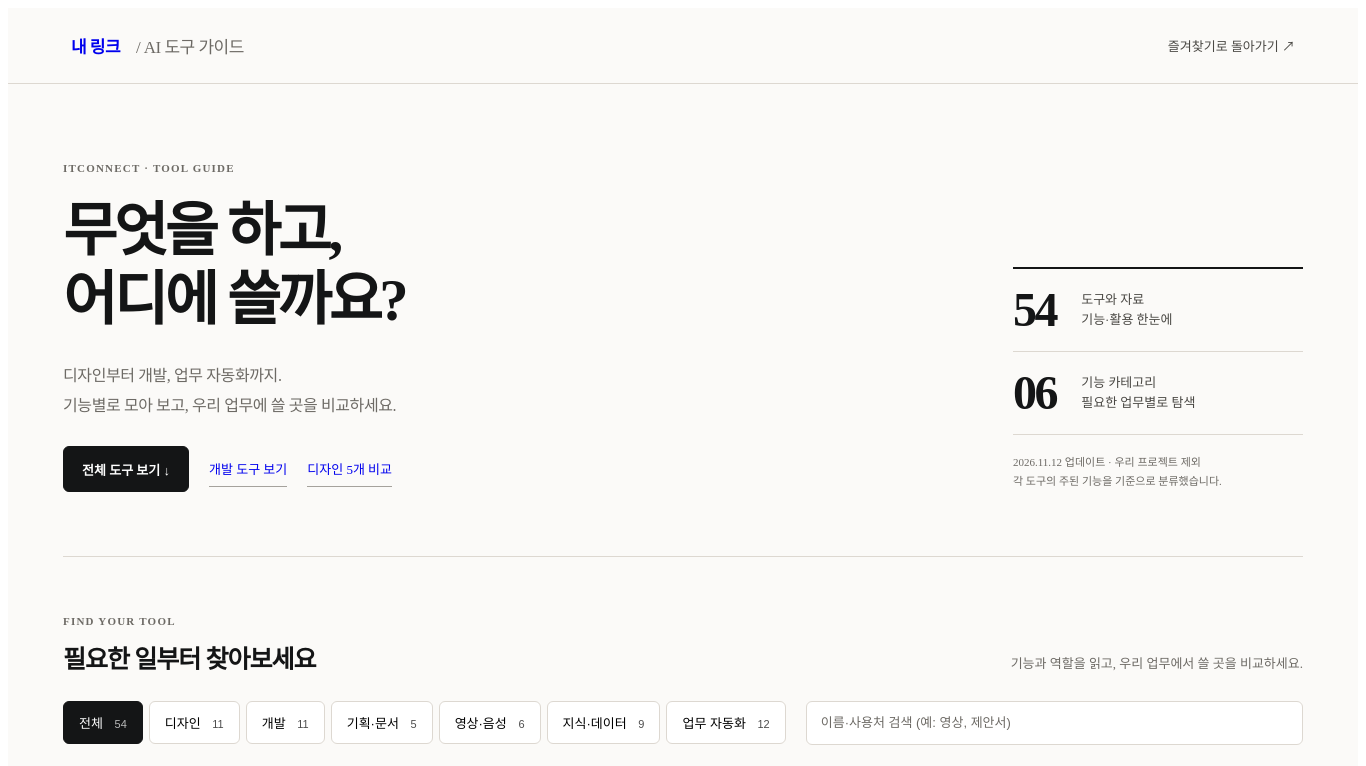
Scenario: AI 도구 가이드 › 기능·활용과 중요한 주의사항은 펼치지 않아도 보이고 CTA는 검색을 초기화한다
The width and height of the screenshot is (1366, 766).
Later steps or results of the test are not shown.
Type "없는도구" into the search field. click: [1054, 723]
box: x1=806 y1=701 x2=1303 y2=745
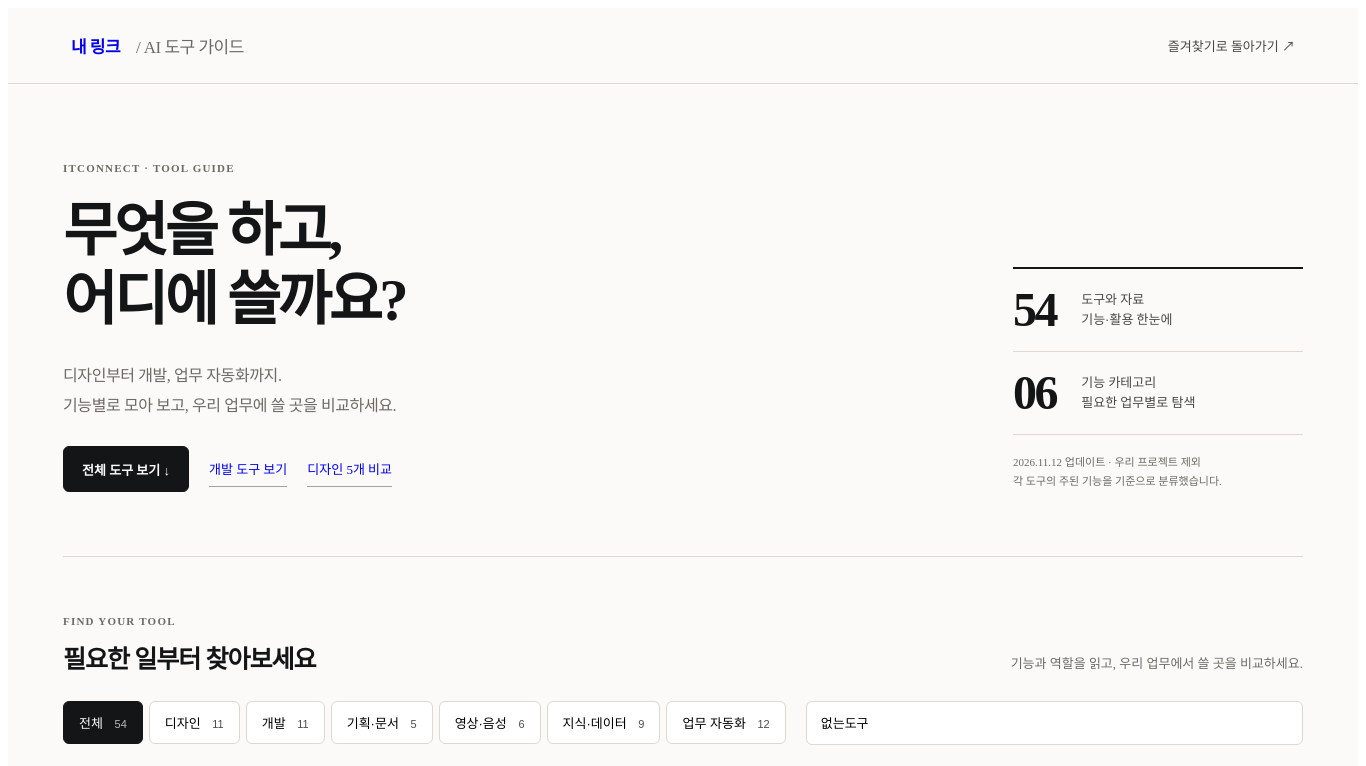
Click the link "개발 도구 보기". click: [248, 469]
box: x1=209 y1=451 x2=287 y2=487
(page scrolled)
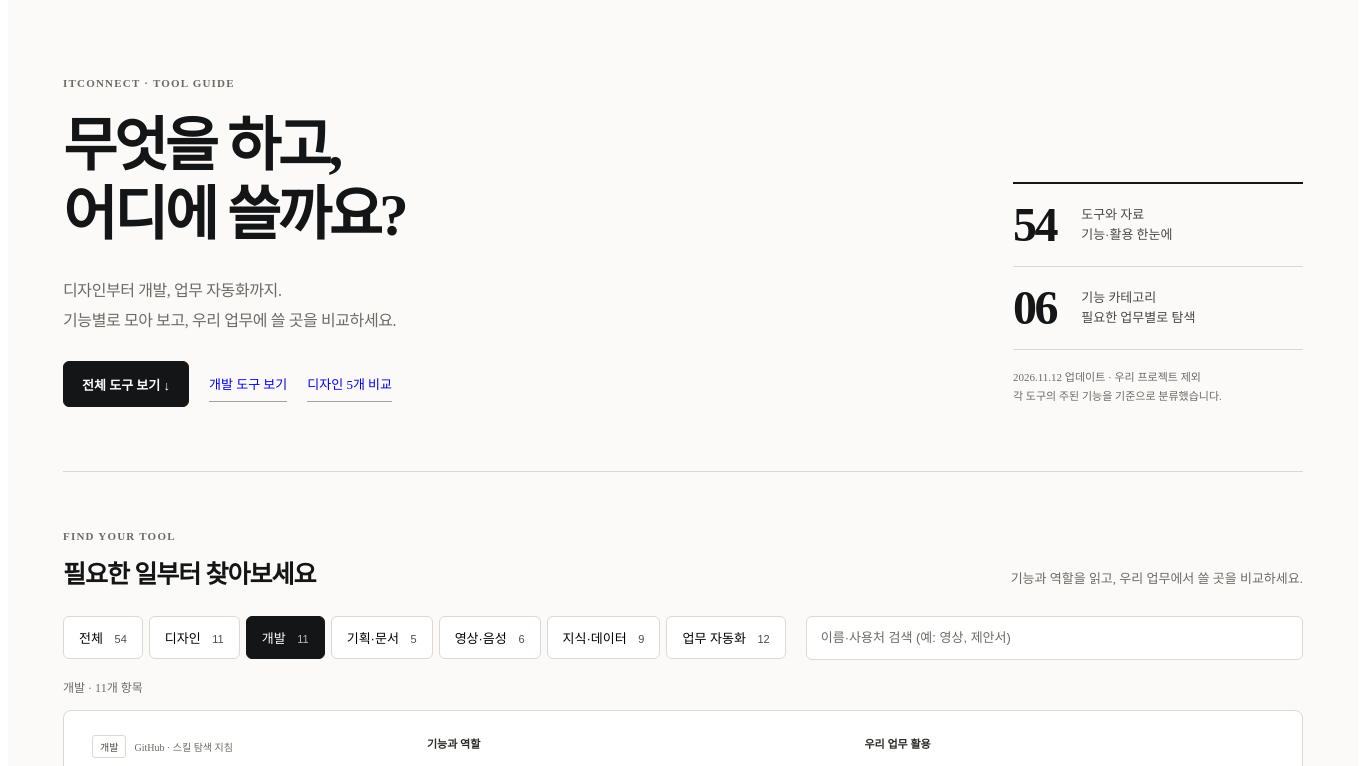
Now the search field is empty, box x1=806 y1=616 x2=1303 y2=660
